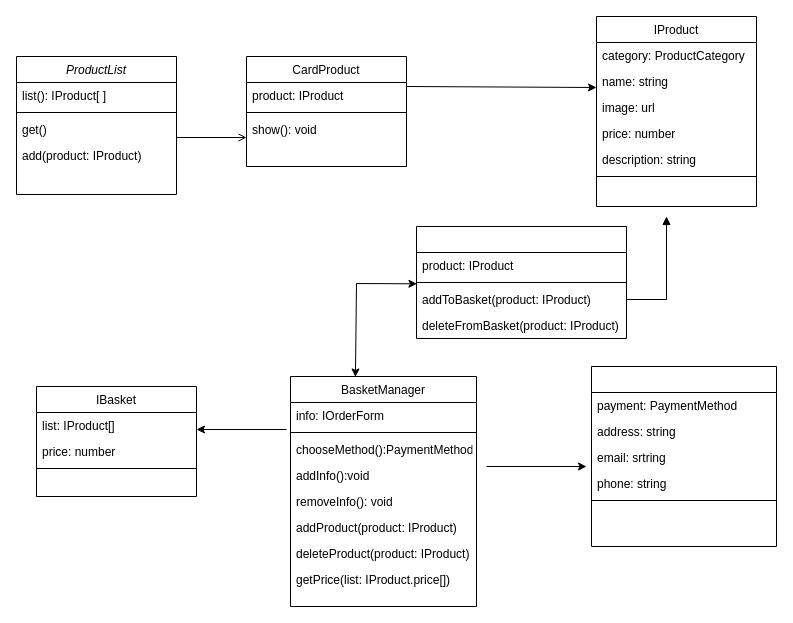
This 793x623 diagram has some shape labels left out. Here are the shapes that lost their labels. From the top down, the box of each, then its label:
(416, 226, 626, 338): ProductMenager
(590, 366, 776, 546): IOrderForm
